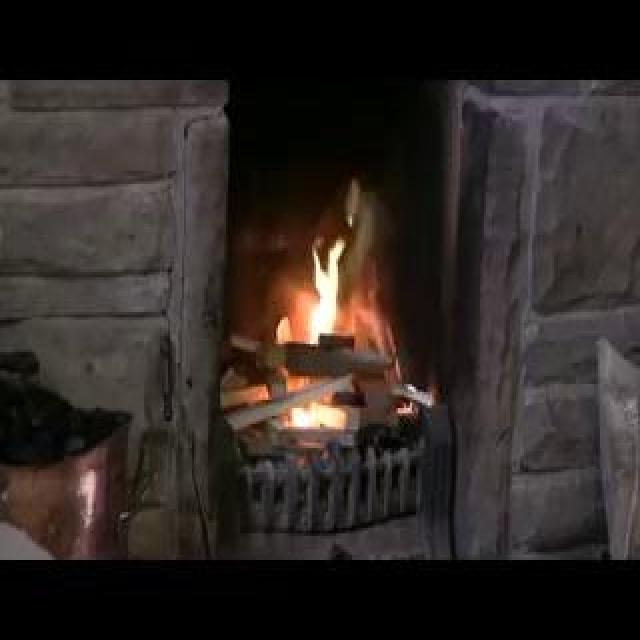Fire: (76, 136, 325, 282)
